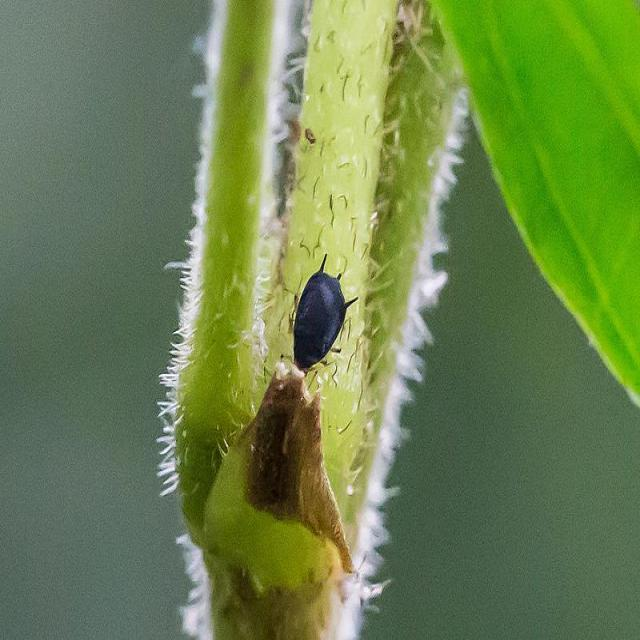aphid: (294, 256, 358, 381)
